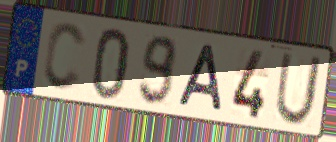0: (89, 25, 133, 102)
4: (229, 47, 267, 120)
9: (136, 34, 180, 108)
A: (175, 42, 225, 115)
C: (40, 20, 89, 95)
U: (272, 51, 324, 128)
